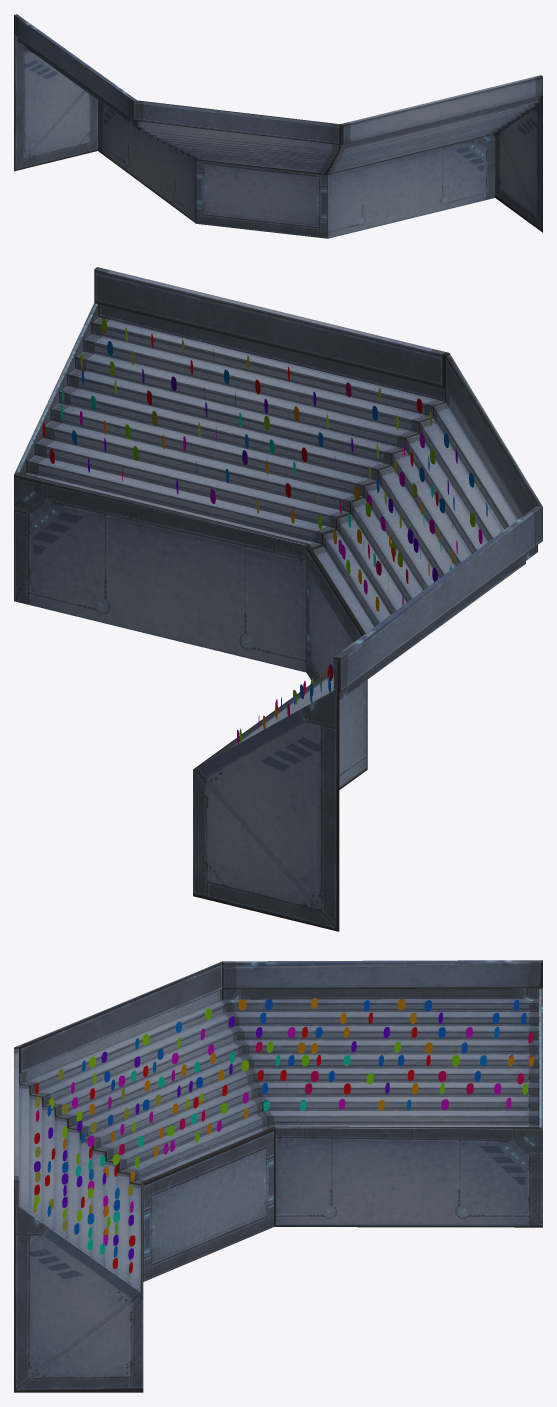
The model's file is Tribune_AF.fbx.
3 renders of one model, top to bottom at view 1: azimuth 30°, elevation 25°; view 2: azimuth 150°, elevation 25°; view 3: azimuth 270°, elevation 25°, orthographic. The views are drawn at different scales.
Parts seen in each view (by area): view 1: tribune; view 2: tribune, Plane.002; view 3: tribune, Plane.002.
Part boxes in pixels (x1,y1,x2,y2): tribune: (14, 14, 542, 238); tribune: (14, 267, 542, 931); Plane.002: (43, 318, 500, 743); tribune: (14, 960, 542, 1392); Plane.002: (33, 997, 534, 1273).
Size of the model in its own units: 3565 by 1596 by 3612.
